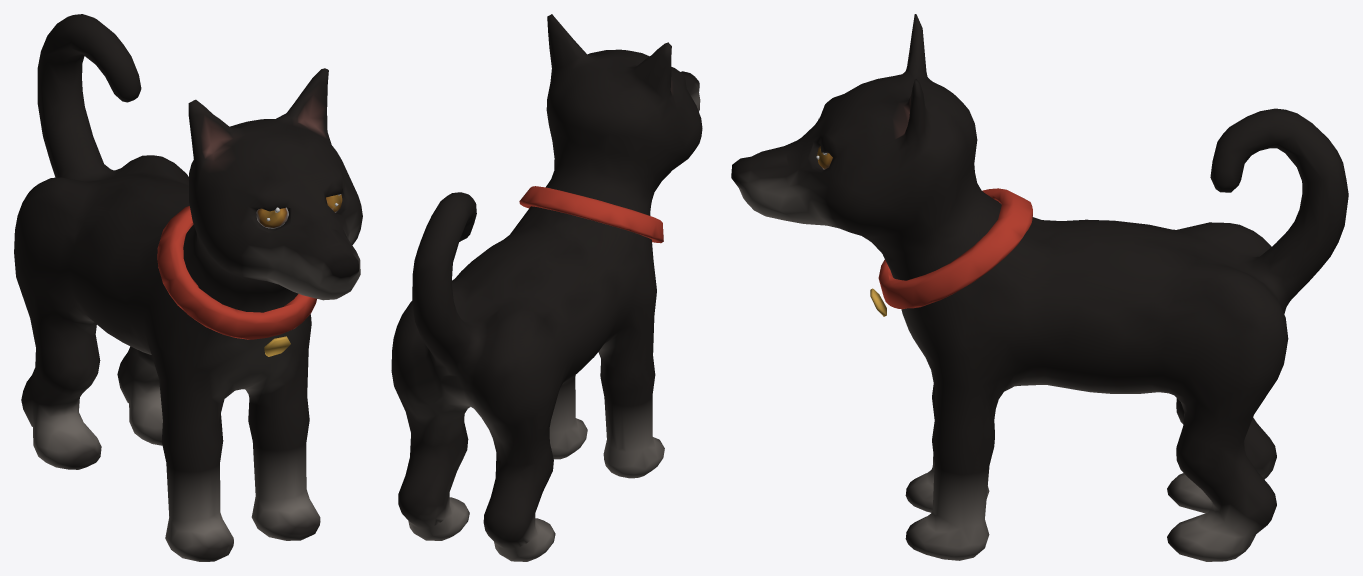
The model's file is cho_muc_dung.glb.
3 renders of one model, left to right at view 1: azimuth 30°, elevation 25°; view 2: azimuth 150°, elevation 25°; view 3: azimuth 270°, elevation 25°, orthographic. The views are drawn at different scales.
Parts seen in each view (by area): view 1: cho_muc_dung; view 2: cho_muc_dung; view 3: cho_muc_dung.
Part boxes in pixels (bbox=[...]): cho_muc_dung: bbox=[14, 14, 362, 561]; cho_muc_dung: bbox=[391, 14, 702, 561]; cho_muc_dung: bbox=[731, 14, 1348, 561].
Bounding box in the file's own units: 0.3538 × 0.9393 × 1.08.
